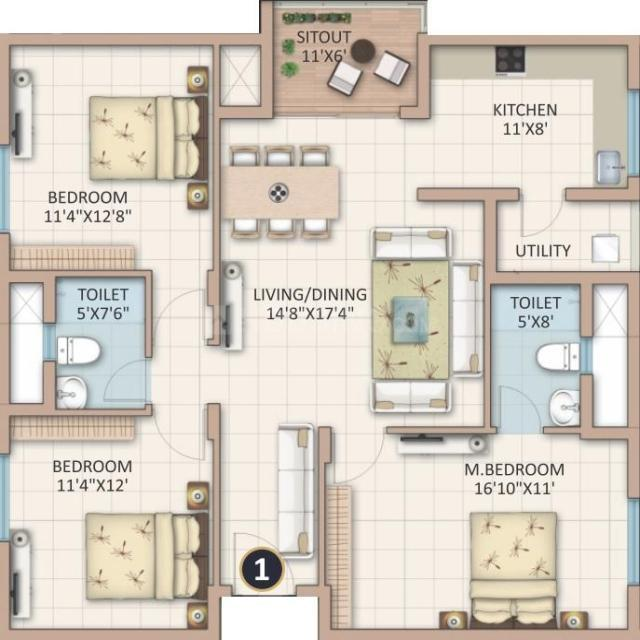Balcony-Sitout: (265, 4, 422, 110)
Bedroom: (0, 34, 216, 347), (0, 405, 219, 637)
Bedroom with Toilet: (321, 277, 637, 640)
Dining: (219, 144, 344, 238)
Enterance-Foyer: (218, 533, 321, 602)
Kitchen: (420, 37, 636, 192)
Living: (215, 195, 488, 590)
Toilet: (488, 277, 587, 430), (50, 271, 150, 409)
Utility: (490, 195, 632, 276)
